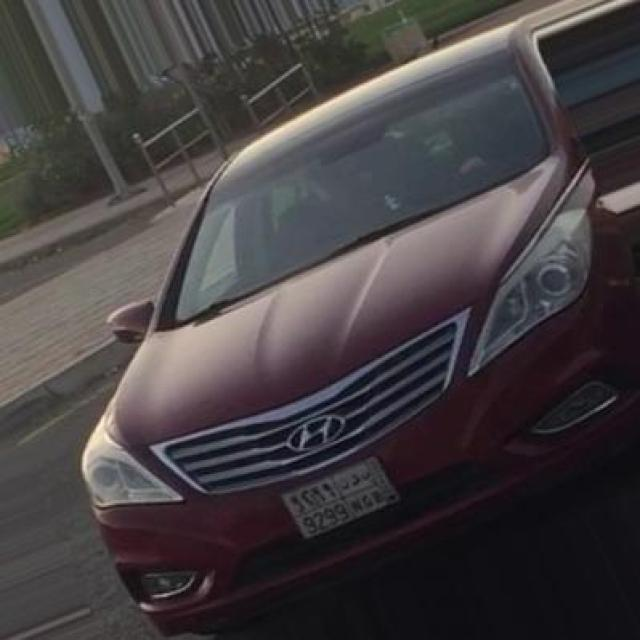Car-plate: (272, 436, 428, 561)
